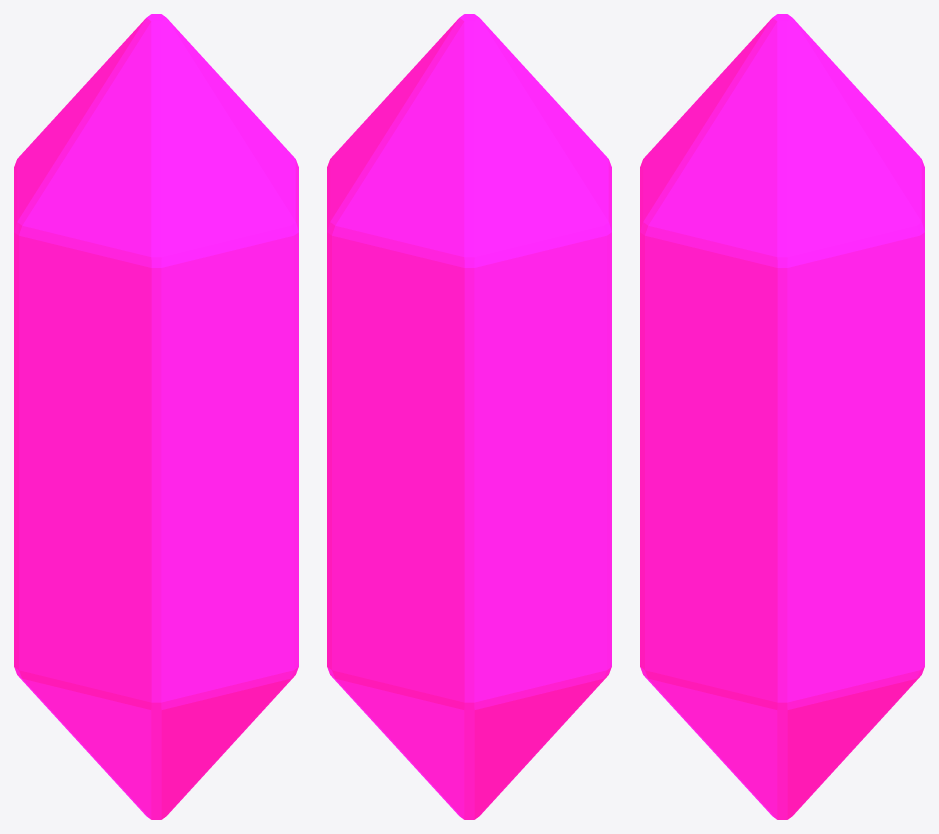
The model's file is crystal2.glb.
The picture shows the model from 3 angles, left to right: view 1: azimuth 30°, elevation 25°; view 2: azimuth 150°, elevation 25°; view 3: azimuth 270°, elevation 25°; orthographic projection.
Visible parts, largest first — view 1: Crystal2; view 2: Crystal2; view 3: Crystal2.
Part boxes in pixels (bbox=[...]): Crystal2: bbox=[14, 14, 298, 819]; Crystal2: bbox=[327, 14, 611, 819]; Crystal2: bbox=[640, 14, 924, 819].
Size of the model in its own units: 32.87 by 89.57 by 28.96.
